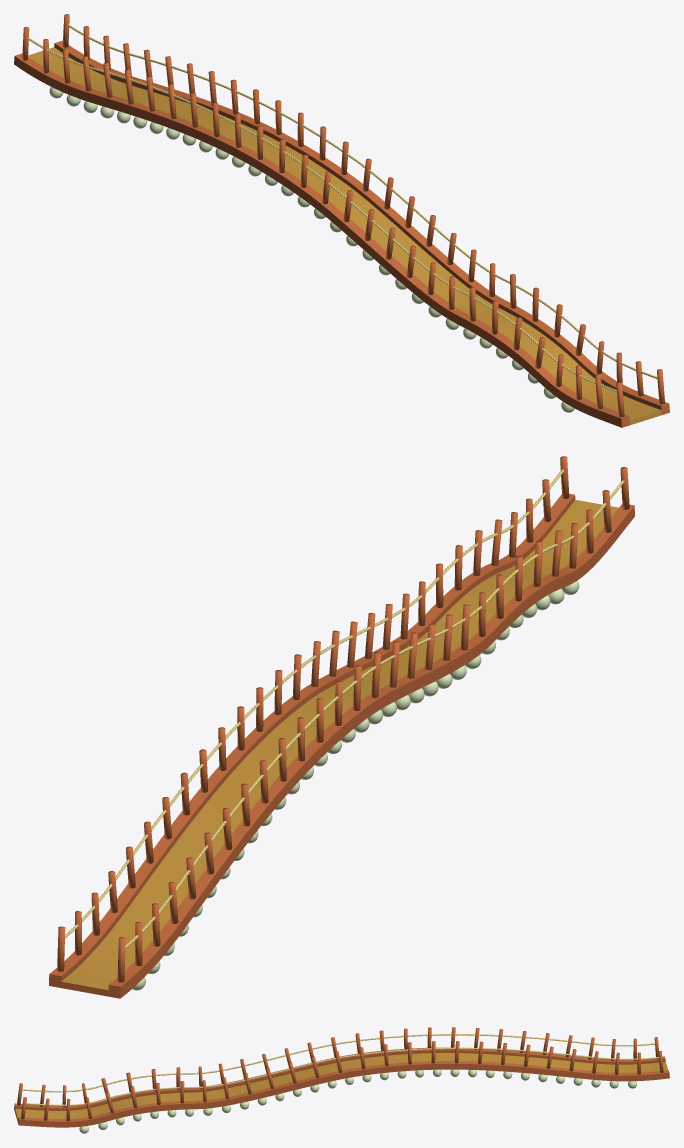
The model's file is brigesRope_Twist_003.fbx.
The picture shows the model from 3 angles, top to bottom: view 1: azimuth 30°, elevation 25°; view 2: azimuth 150°, elevation 25°; view 3: azimuth 270°, elevation 25°; orthographic projection. The views are drawn at different scales.
Parts seen in each view (by area): view 1: Rope.Twist.003; view 2: Rope.Twist.003; view 3: Rope.Twist.003.
Part boxes in pixels (box(x1,y1,x2,y2)): Rope.Twist.003: box(14, 14, 669, 427); Rope.Twist.003: box(49, 456, 634, 998); Rope.Twist.003: box(14, 1027, 669, 1133).
Bounding box in the file's own units: 610 × 431 × 3409.
